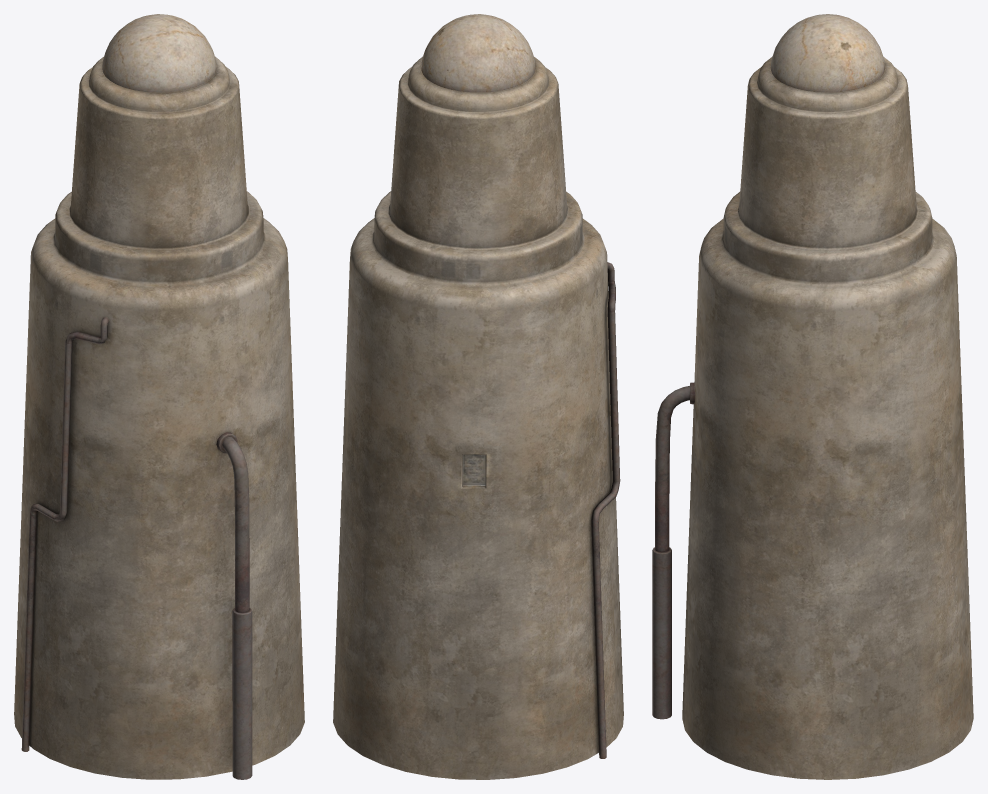
Rendered from eau.glb.
3 renders of one model, left to right at view 1: azimuth 30°, elevation 25°; view 2: azimuth 150°, elevation 25°; view 3: azimuth 270°, elevation 25°, orthographic.
Parts seen in each view (by area): view 1: SW structure; view 2: SW structure; view 3: SW structure.
Boxes of the visible parts, x1=… form: SW structure: x1=14, y1=14, x2=304, y2=779; SW structure: x1=333, y1=14, x2=623, y2=779; SW structure: x1=652, y1=14, x2=973, y2=779.
Size of the model in its own units: 7.93 by 20.63 by 8.54.
1 material, 1 textured.
